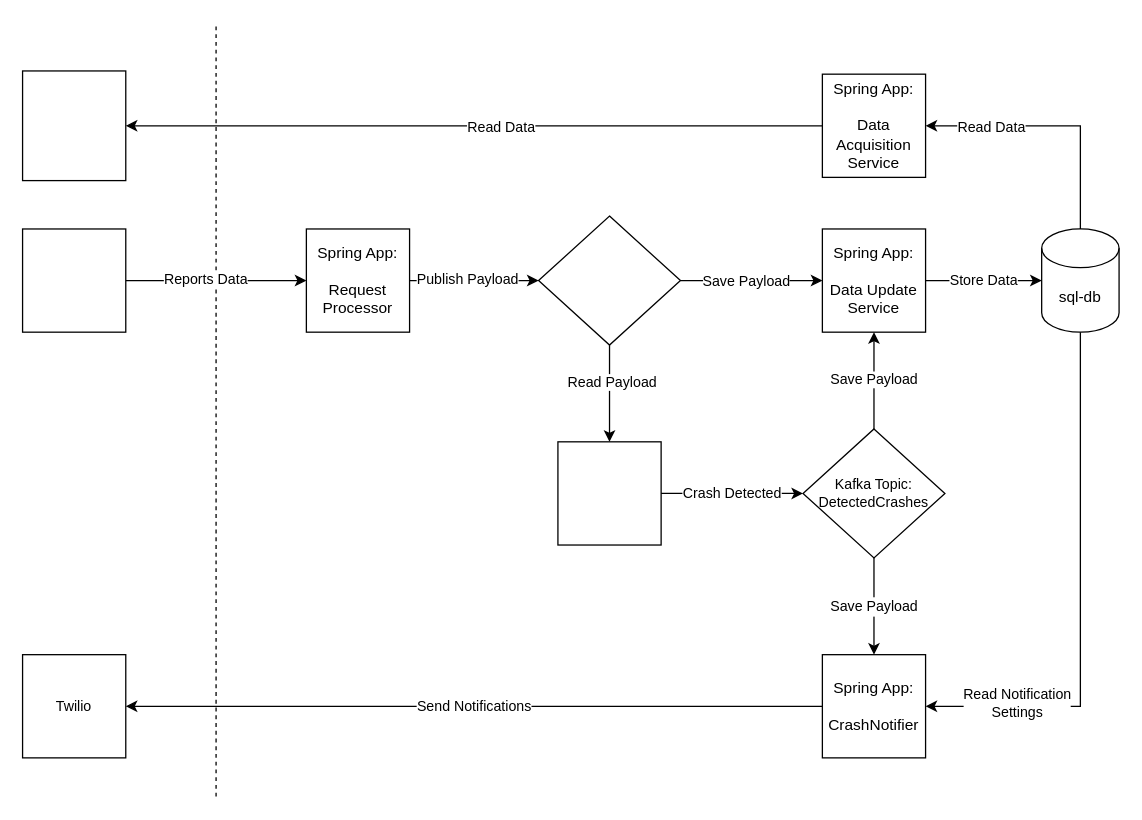
This 1142x820 diagram has some shape labels left out. The shapes that lost their labels are listed below. From the top down, each one's centre as x and y in pixels, then its label:
At point 73,125: "Frontend App".
At point 73,280: "Embedded Hardware".
At point 608,280: "Kafka Topic: DevicePayload".
At point 609,493: "Spring App: CrashDetector".
